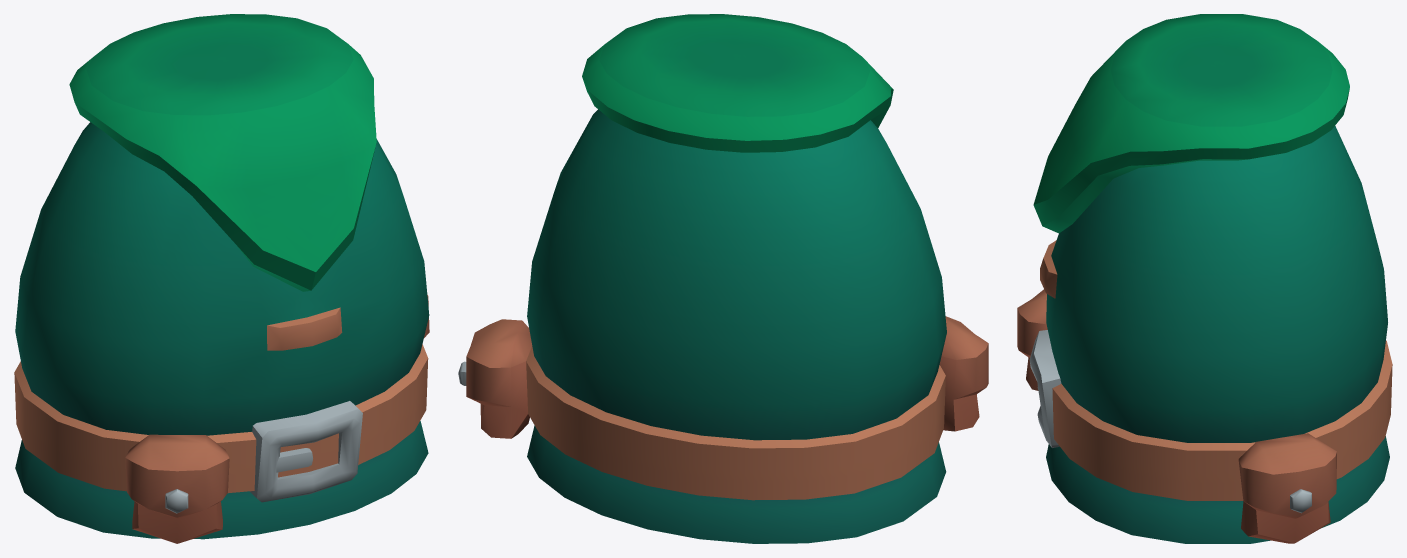
Rendered from RogueBody.glb.
3 views of the same model, side by side, from view 1: azimuth 30°, elevation 25°; view 2: azimuth 150°, elevation 25°; view 3: azimuth 270°, elevation 25° (orthographic). The views are drawn at different scales.
Parts seen in each view (by area): view 1: Rogue_Body; view 2: Rogue_Body; view 3: Rogue_Body.
Boxes of the visible parts, box(x1,y1,x2,y2) form: Rogue_Body: box(14, 14, 429, 543); Rogue_Body: box(458, 14, 988, 543); Rogue_Body: box(1017, 14, 1392, 543).
Bounding box in the file's own units: 0.3056 × 0.3051 × 0.2447.
1 material, 1 textured.
